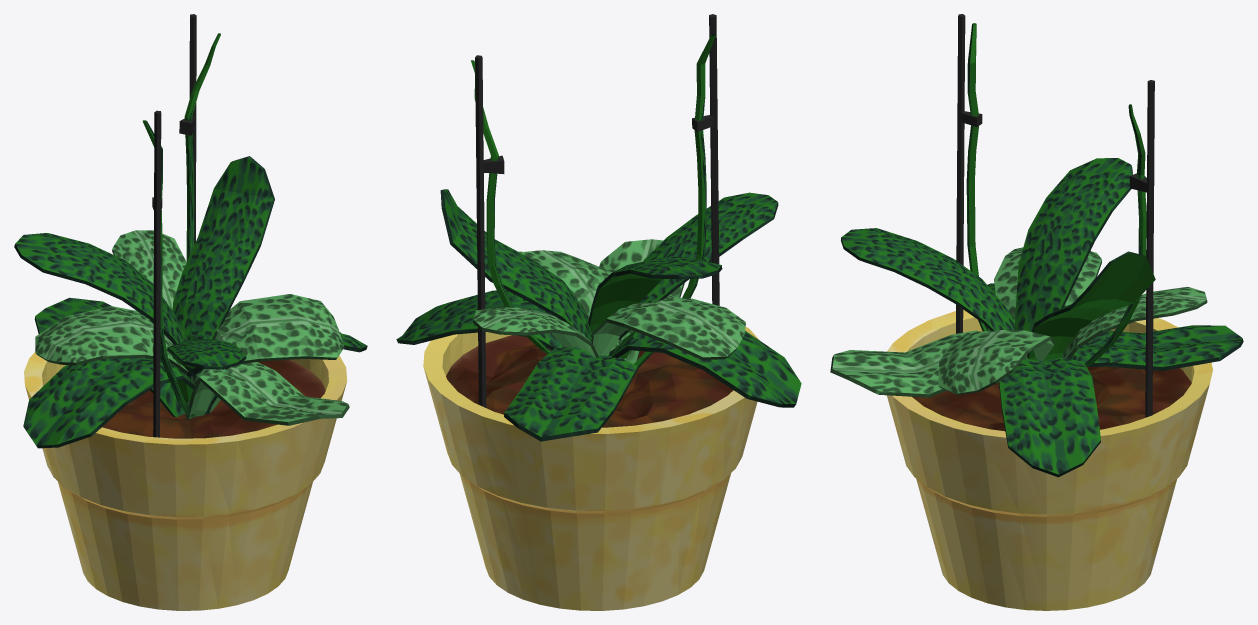
The model's file is Phalaenopsis_Good_End_2.glb.
The picture shows the model from 3 angles, left to right: view 1: azimuth 30°, elevation 25°; view 2: azimuth 150°, elevation 25°; view 3: azimuth 270°, elevation 25°; orthographic projection. The views are drawn at different scales.
Parts seen in each view (by area): view 1: Plant, Pot; view 2: Pot, Plant; view 3: Plant, Pot.
Boxes of the visible parts, box(x1,y1,x2,y2) form: Plant: box(14, 14, 367, 448); Pot: box(24, 352, 347, 610); Pot: box(423, 326, 759, 610); Plant: box(396, 14, 801, 441); Plant: box(830, 14, 1243, 477); Pot: box(887, 309, 1212, 610).
Size of the model in its own units: 2.52 by 3.51 by 2.54.
6 materials, 5 textured.
